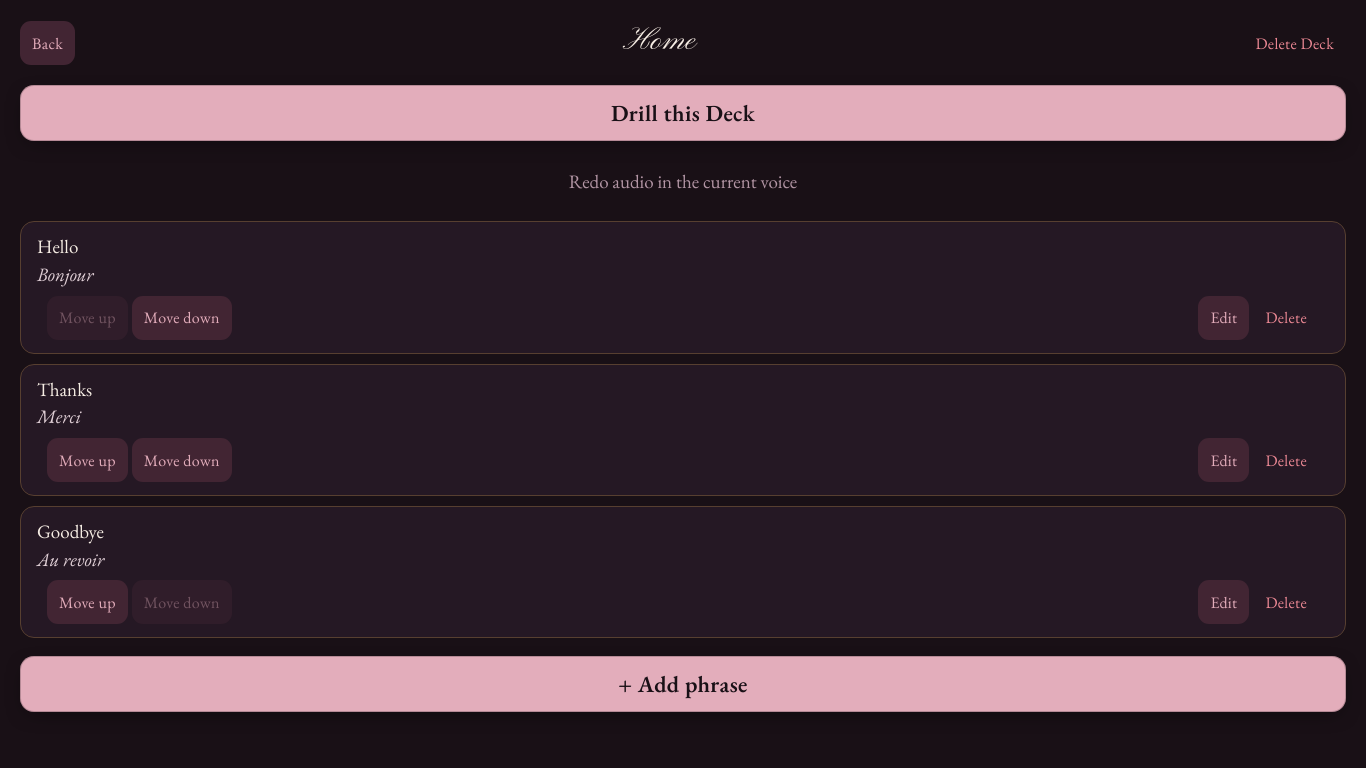
Test: DeckDetailScreen — explicit re-generation (T067) › asks for confirmation before re-generating a whole Deck, naming what it will do
The image size is (1366, 768).
Step 1. Click the button with test id "regenerate-deck-audio" → (683, 181), box [20,159,1346,203]
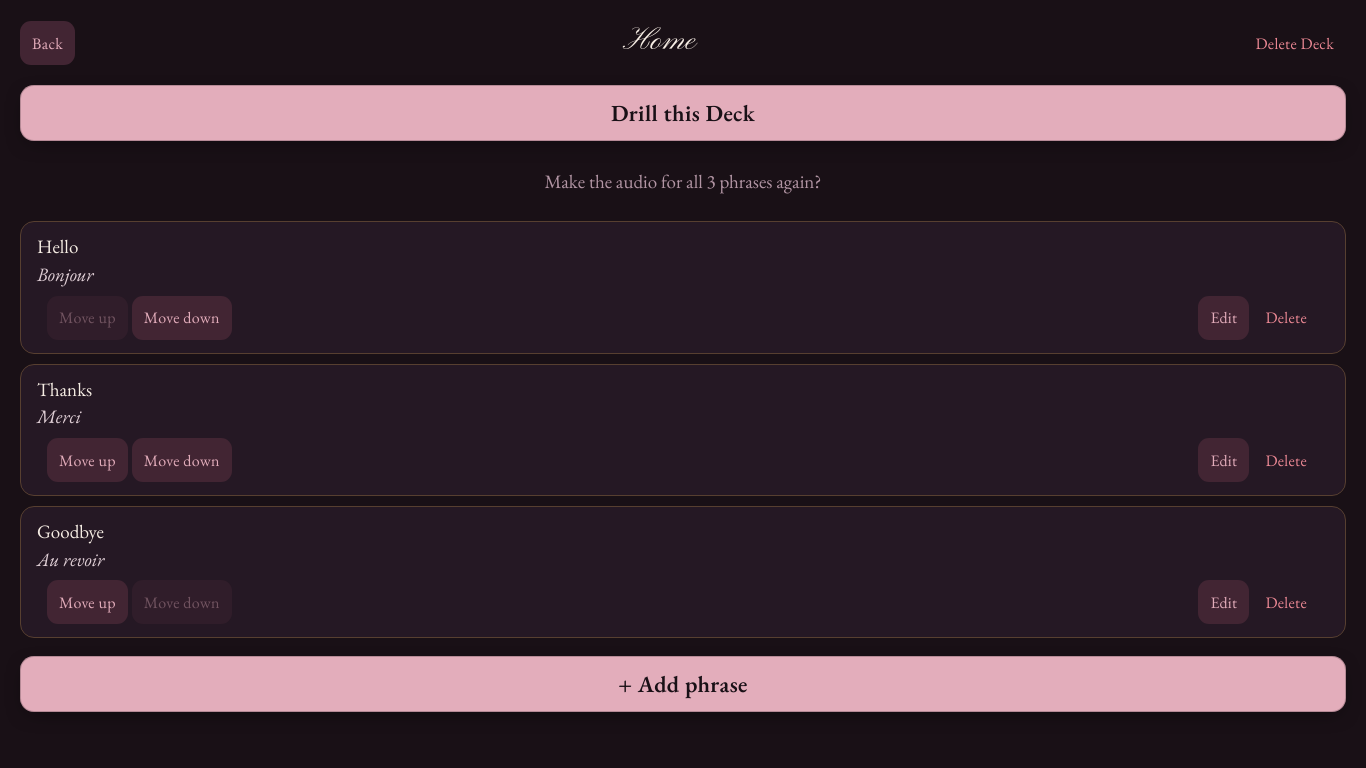
expect the button with test id "regenerate-deck-audio" shows "3": met, box [20,159,1346,203]
